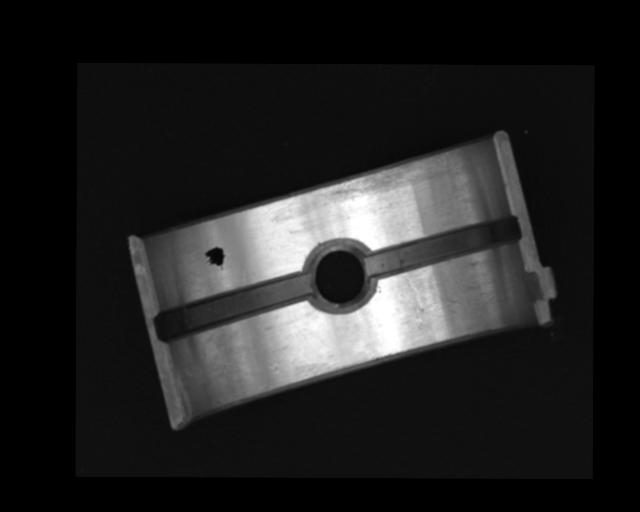blot: (203, 245, 226, 270)
bruise: (441, 297, 460, 315), (269, 362, 281, 375)
gap: (157, 270, 313, 341), (365, 216, 522, 277)
hole: (304, 236, 375, 314)
nick: (402, 272, 425, 326)
scratch: (315, 150, 452, 203)
